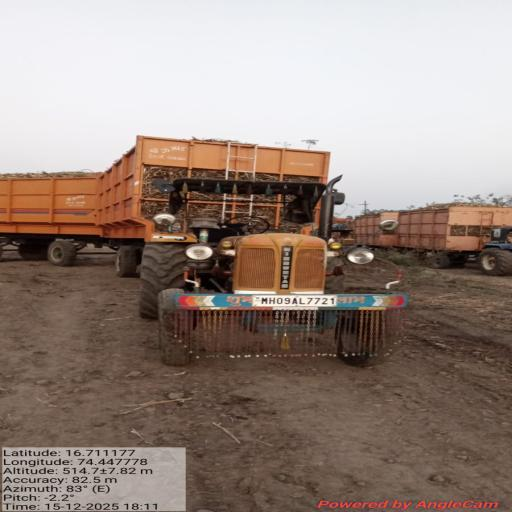number_plate: (253, 295, 337, 308)
